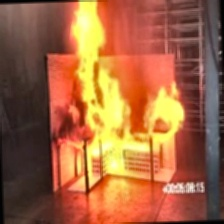fire: (48, 0, 187, 188)
